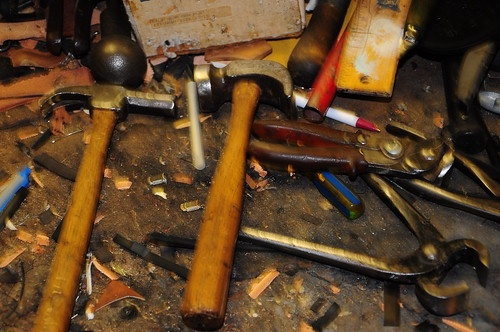hammer: (33, 83, 179, 332), (182, 59, 295, 331)
